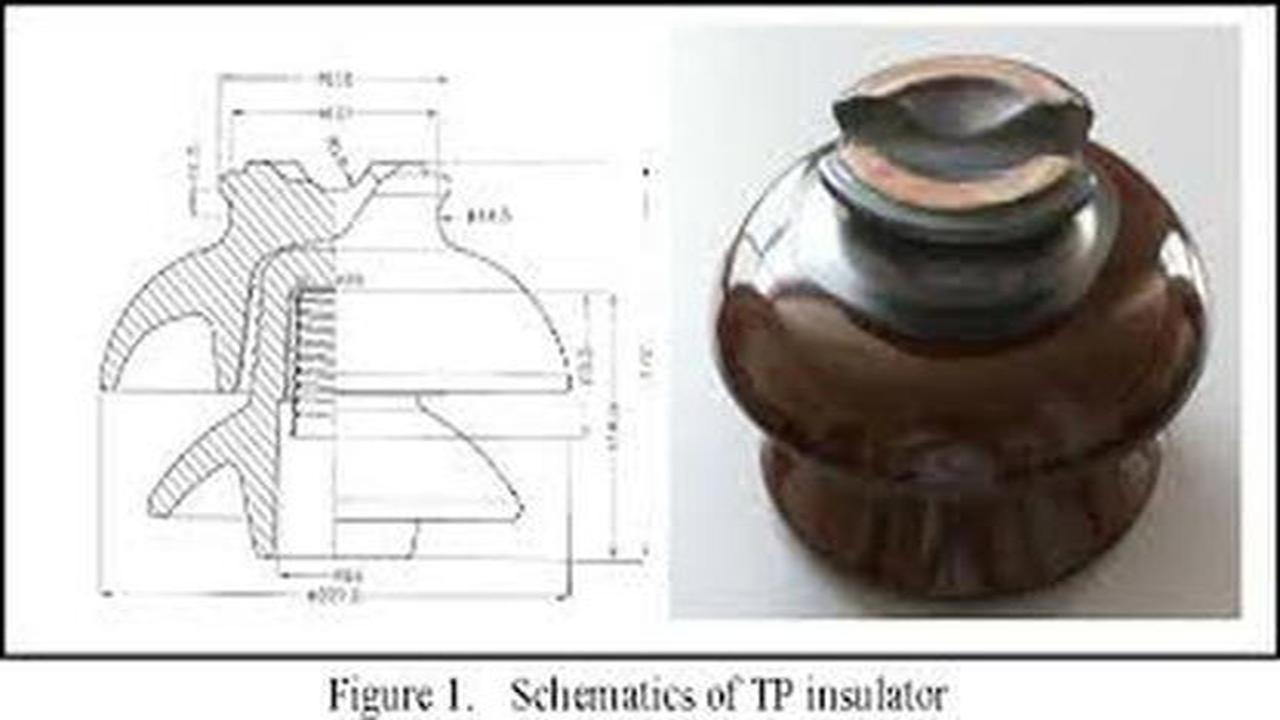insulator_pin: (693, 47, 1244, 492)
